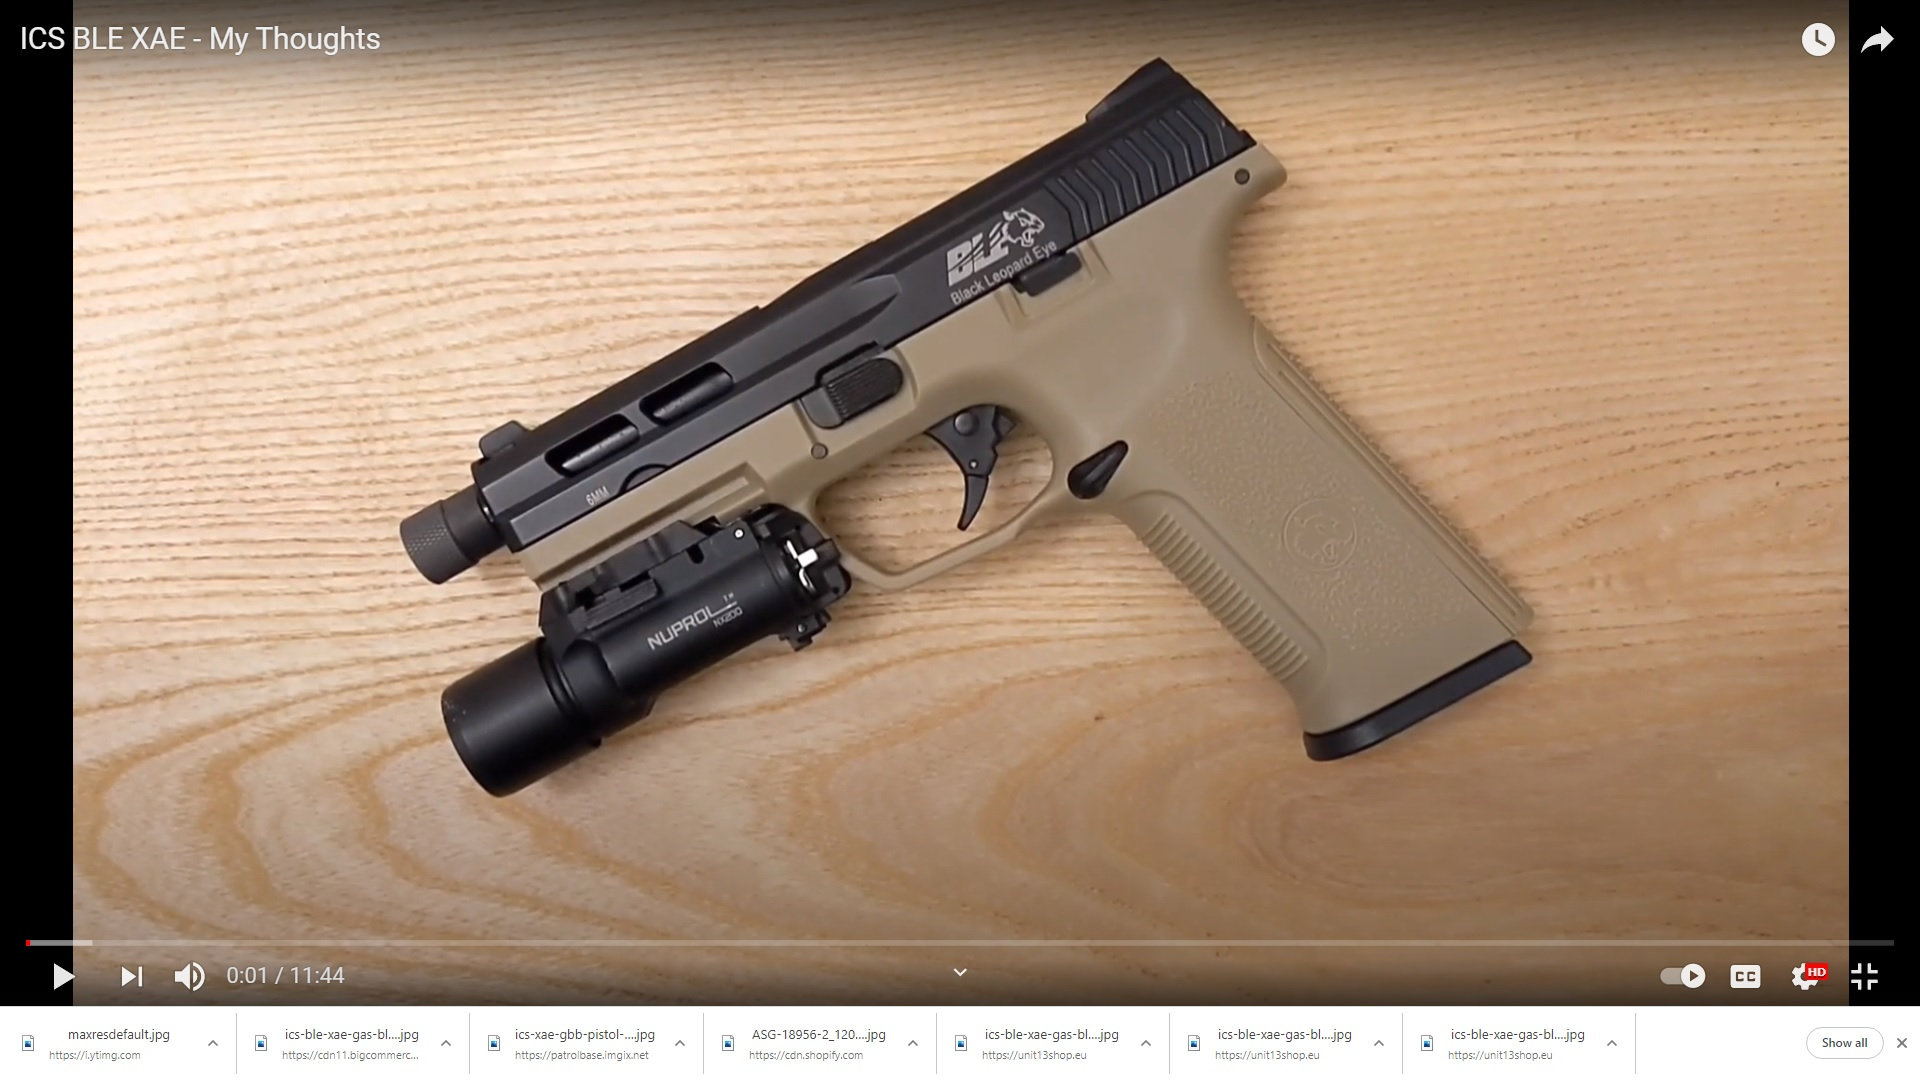asg_ics_ble_xae: (353, 61, 1557, 822)
